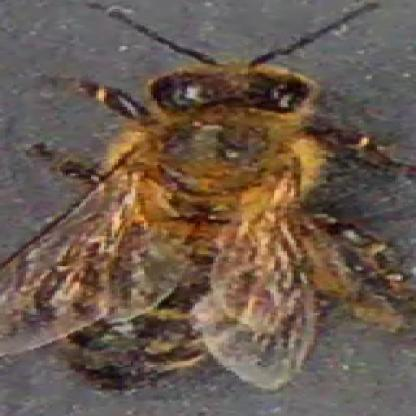bee: (48, 57, 338, 392)
